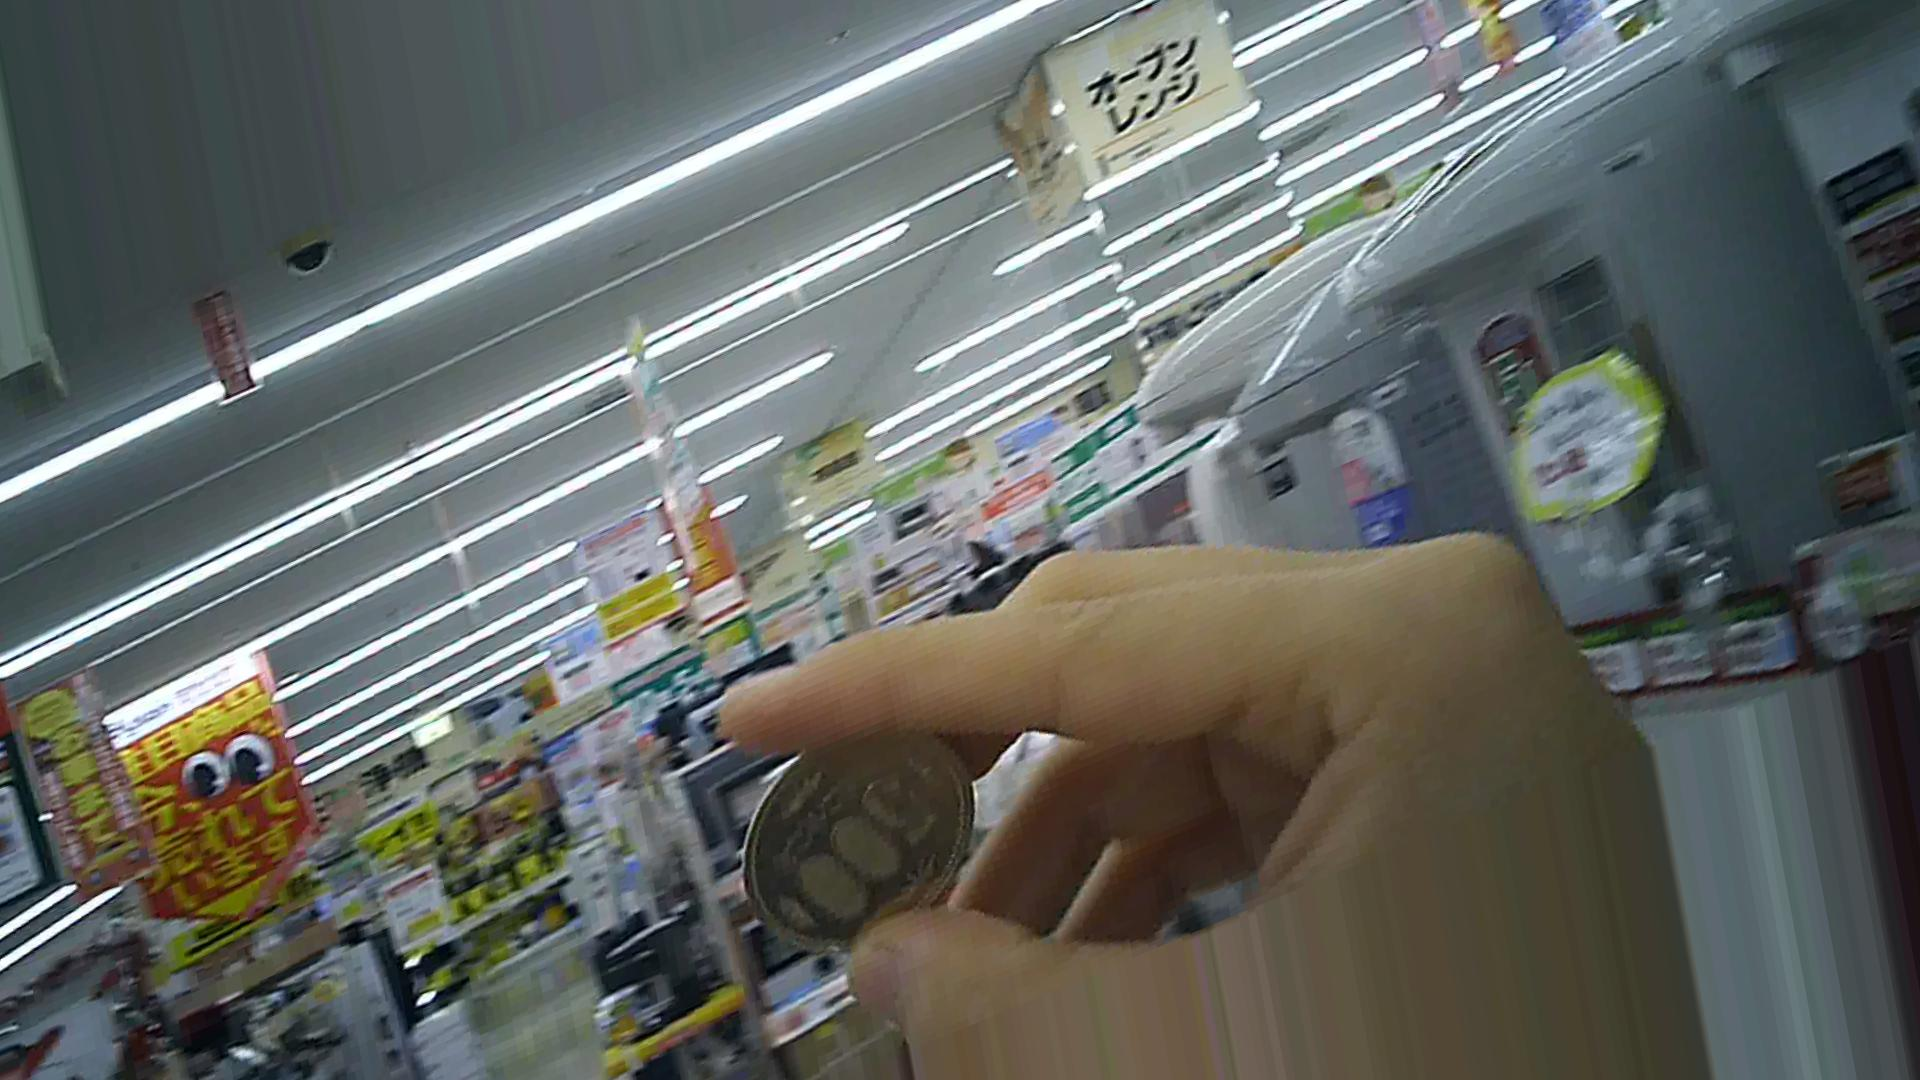500 Yen: (717, 712, 973, 961)
